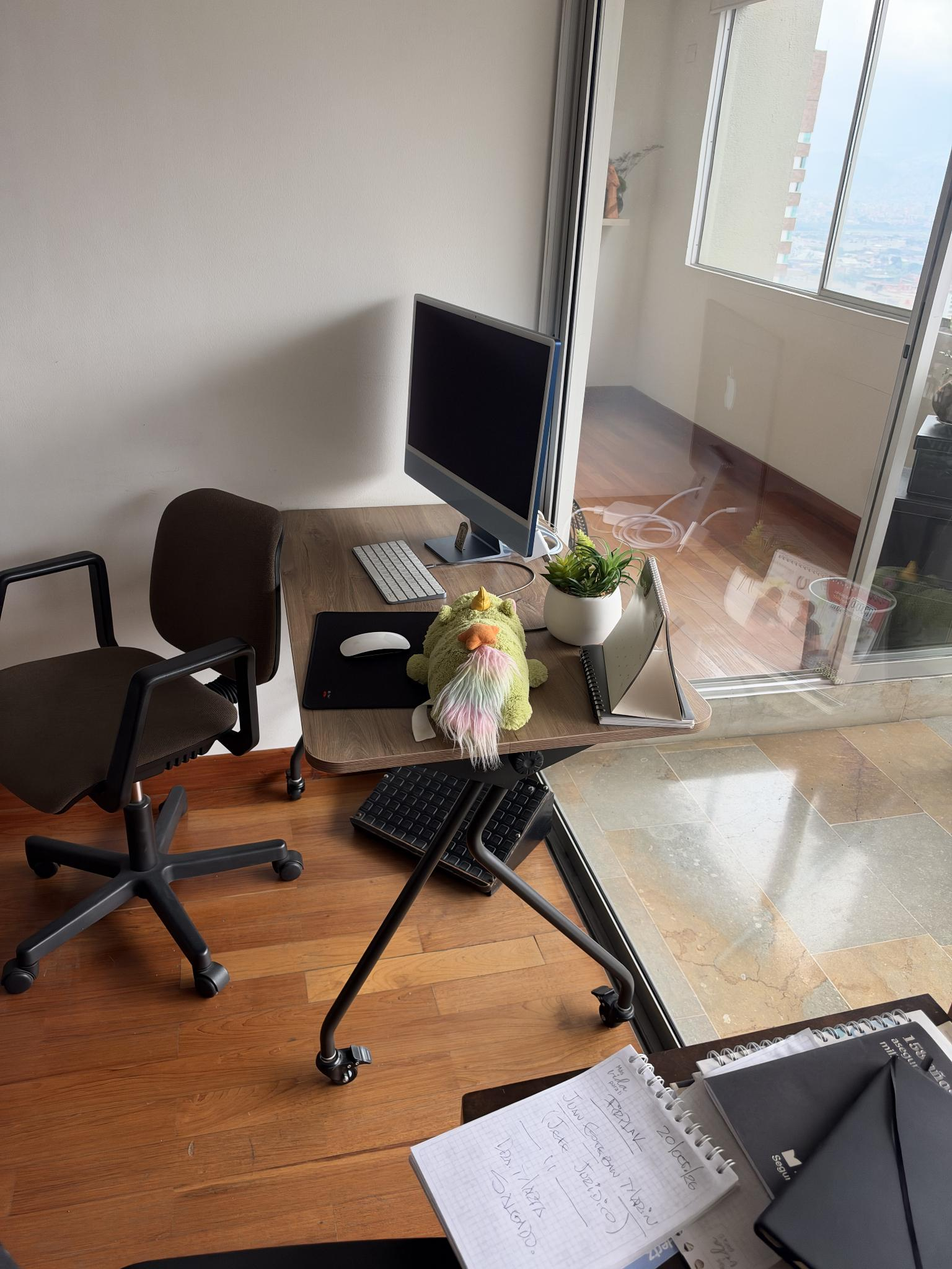peluche_martin: (405, 585, 550, 772)
